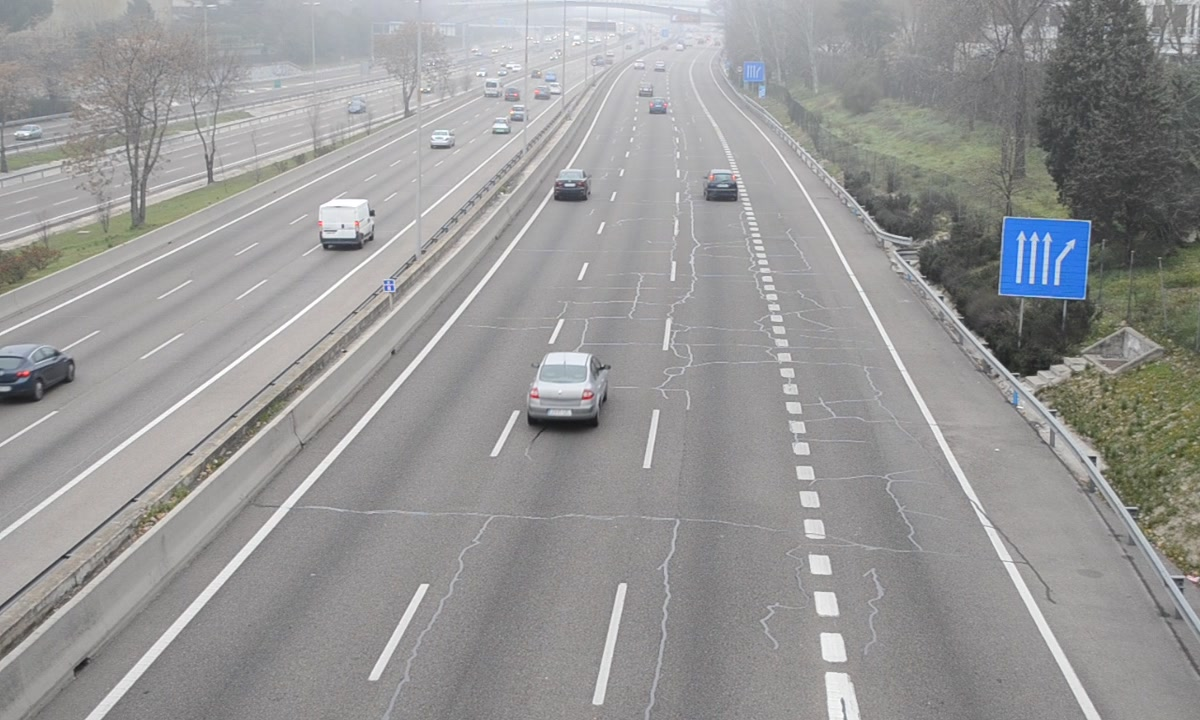car: (528, 353, 606, 426), (553, 167, 590, 202), (705, 170, 738, 200)
